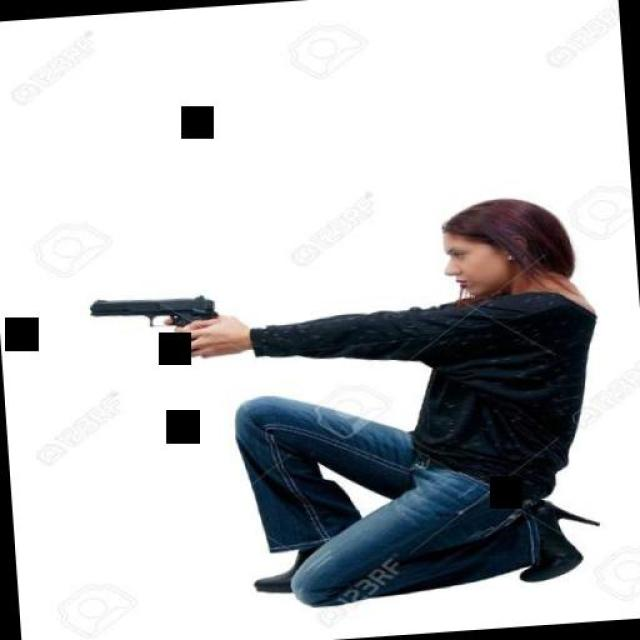gun: (80, 285, 225, 359)
